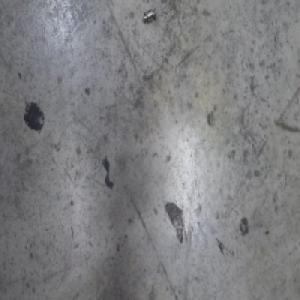Bolt: (142, 6, 157, 24)
